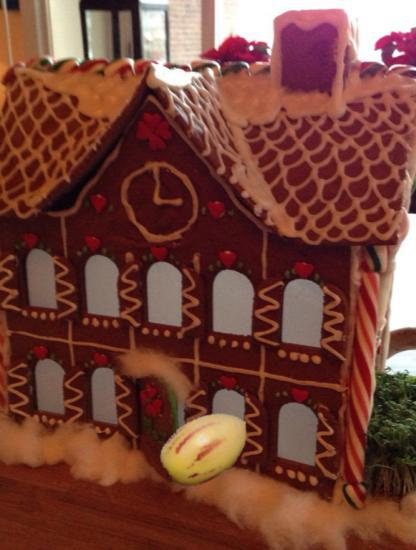Pepino: (158, 400, 254, 496)
